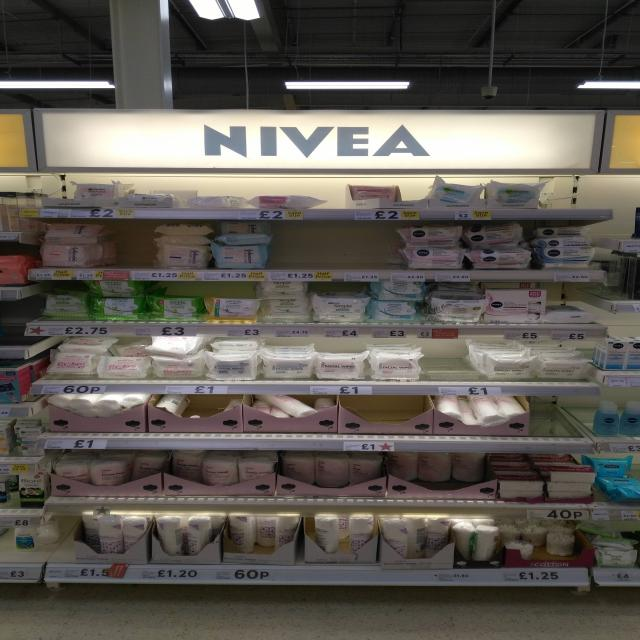void: (424, 334, 481, 391), (103, 218, 151, 285), (341, 394, 393, 454), (273, 221, 318, 288), (362, 218, 406, 286), (193, 395, 245, 450), (322, 215, 359, 290), (394, 395, 433, 452), (250, 394, 290, 447), (549, 396, 585, 449)
